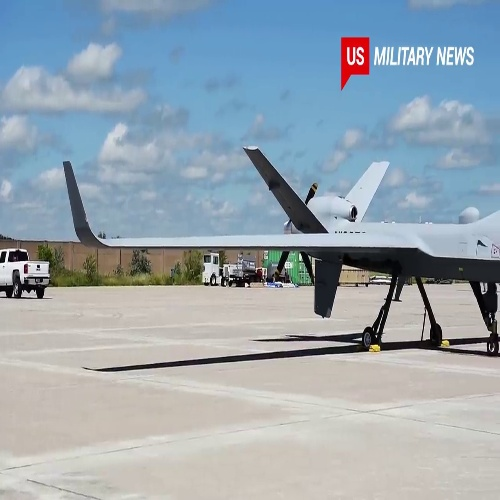uav: (62, 146, 500, 355)
